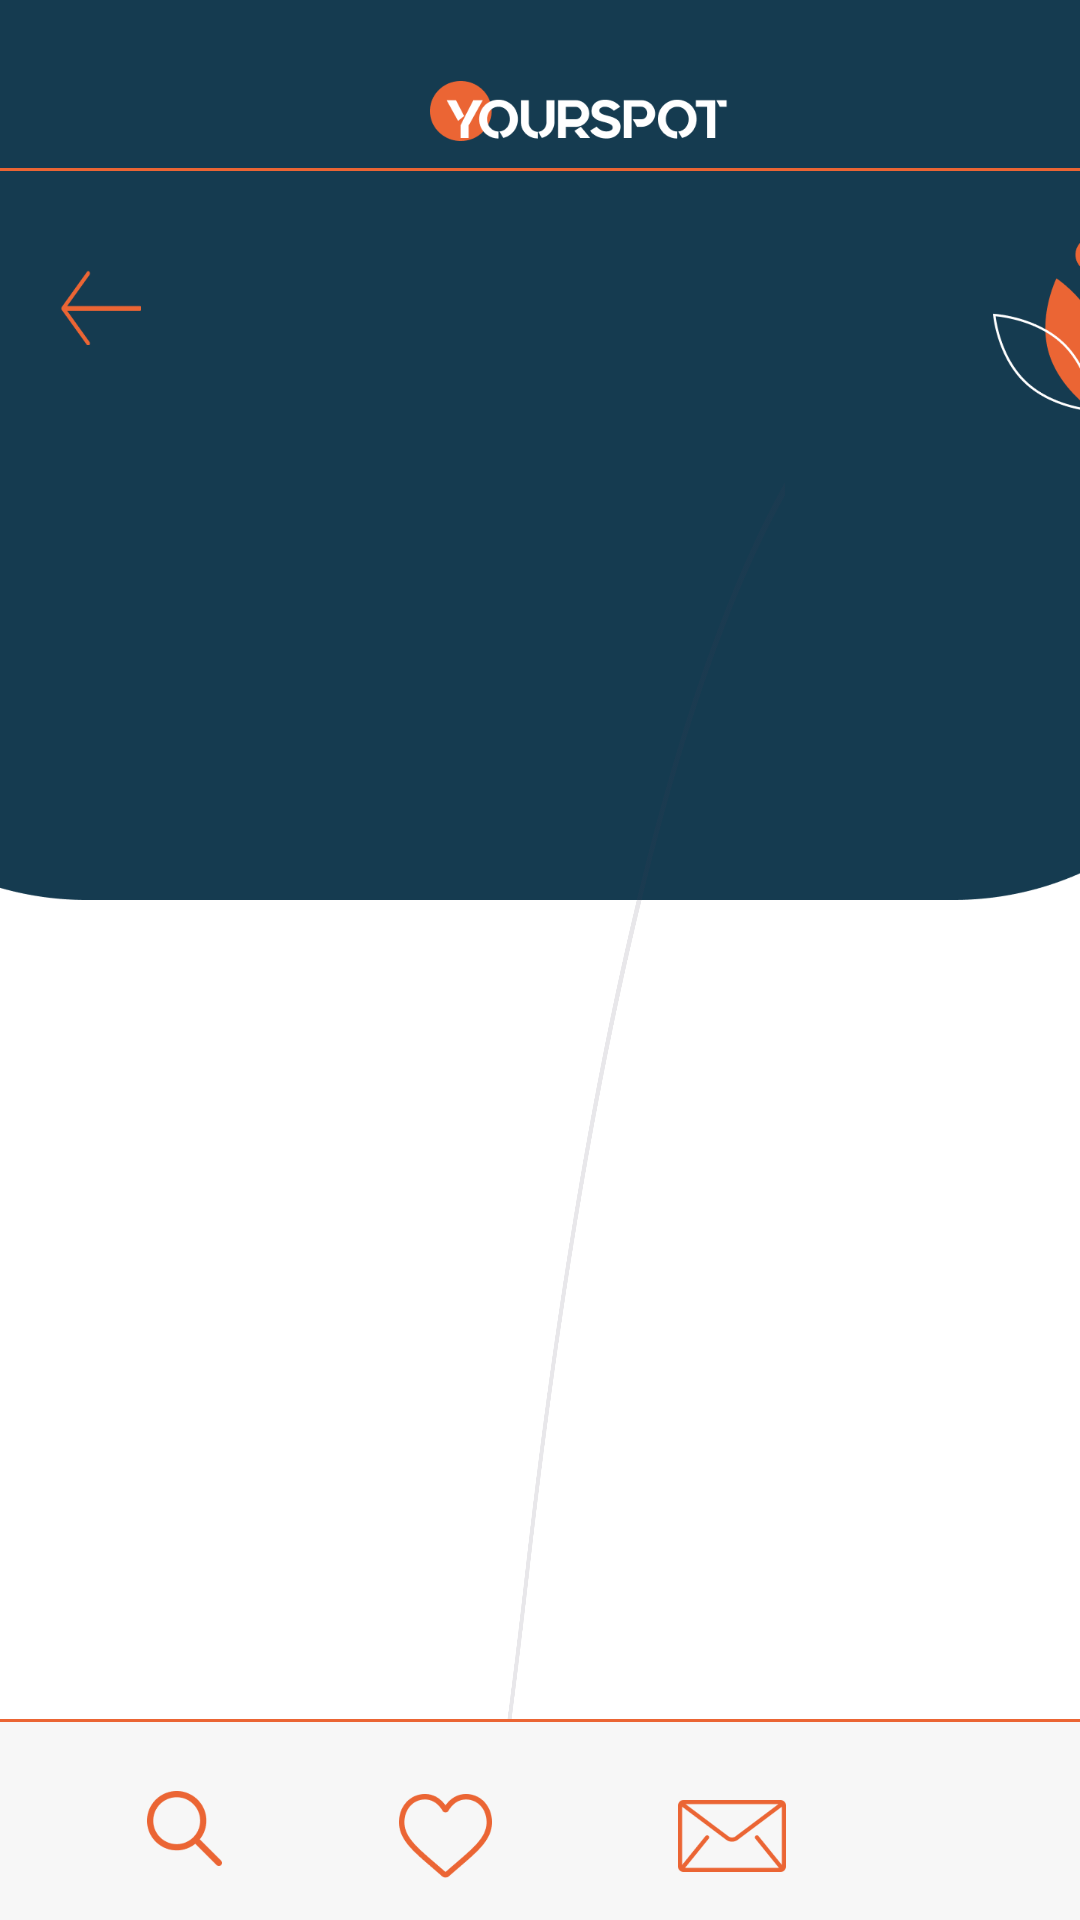

Named icons in this screenshot (1080px x 1920px) and their bounding boxes, (x1, y1, x2, y2):
iconecoracao menuinf: (399, 1794, 492, 1878)
iconemensagem menuinf: (678, 1800, 786, 1872)
iconepesquisa menuinf: (147, 1791, 222, 1866)
seta retorno laranja: (61, 271, 141, 345)
